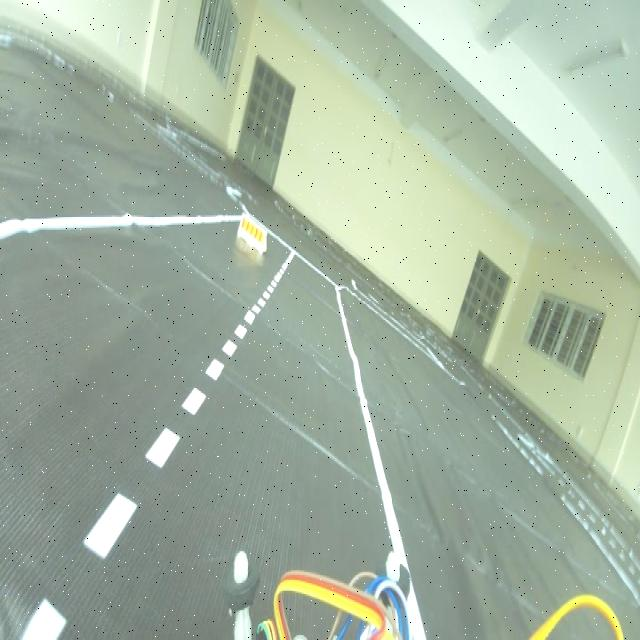roadblock: (237, 205, 268, 267)
